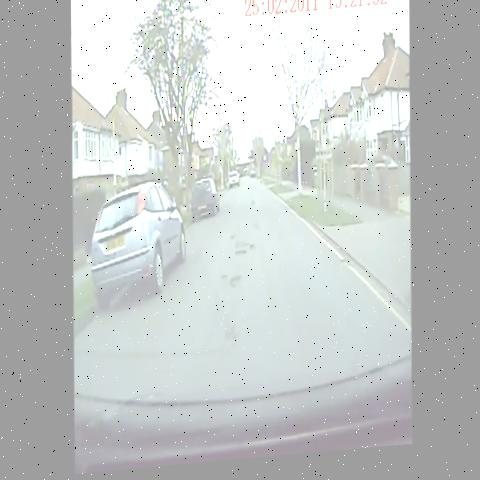pothole: (224, 224, 260, 264), (215, 323, 247, 357), (219, 263, 245, 304), (244, 196, 261, 216)
